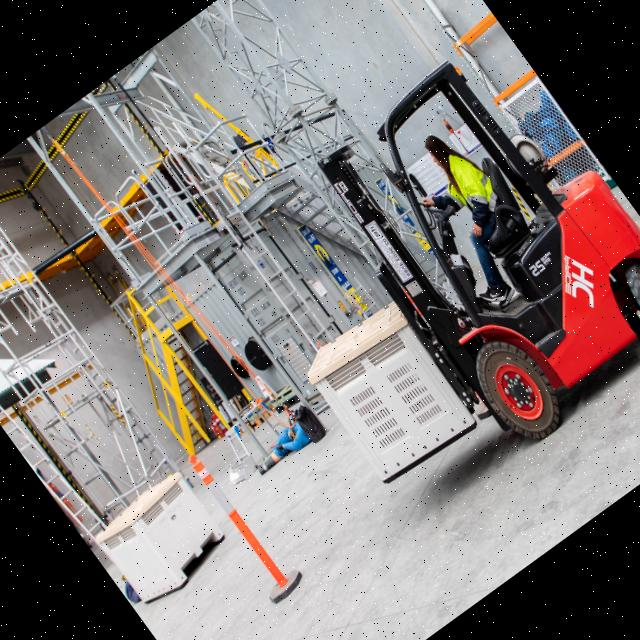Person: (384, 118, 552, 308)
